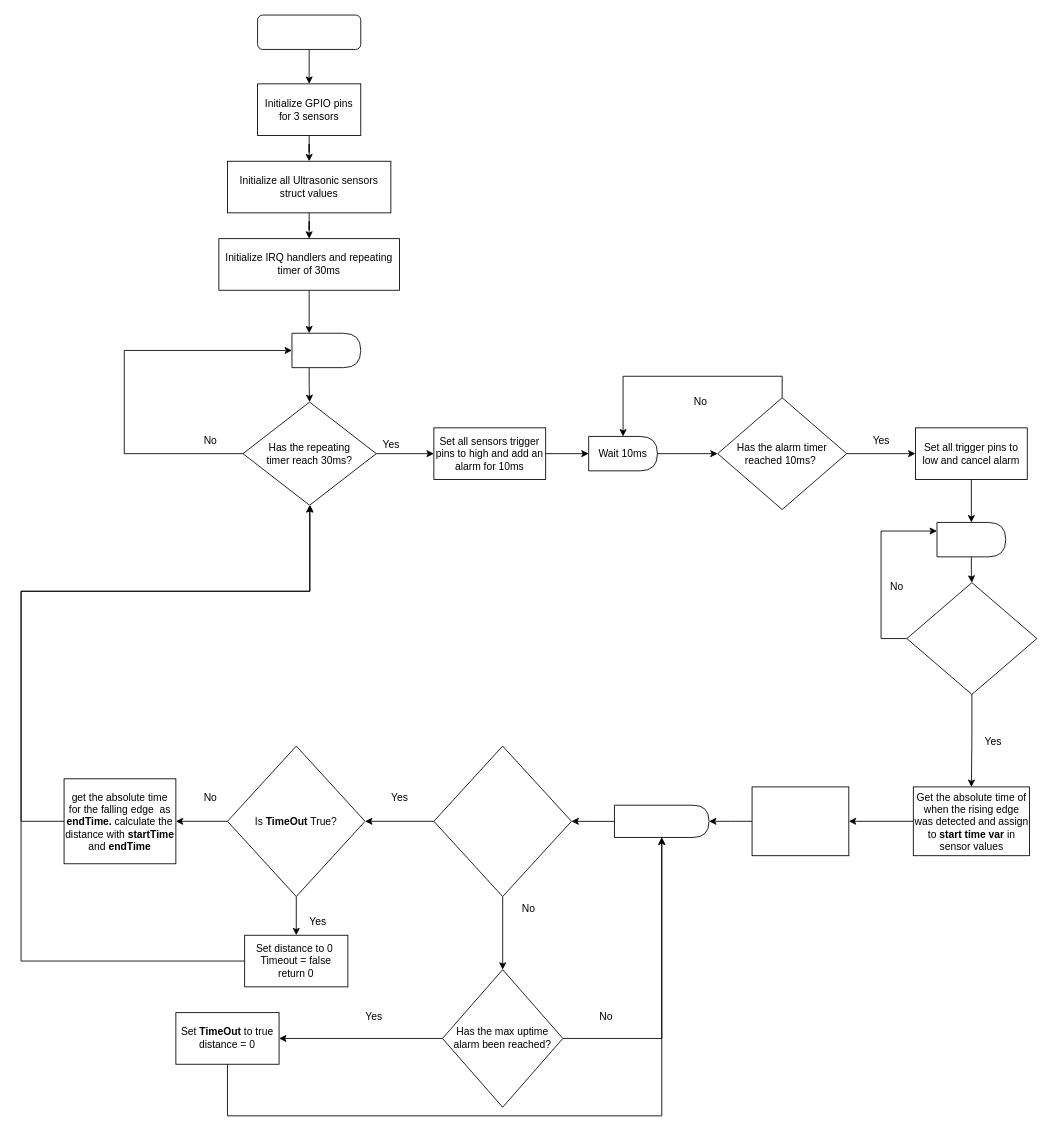
Image size: 1053x1138. Some labels were removed from this diagram. The centre of each missing label's shape, as x and y in pixels:
Add an alarm timer for x seconds for max uptime: pixel 800 821
Has any of the sensors detect a rising edge?: pixel 971 638
Has any sensor detect falling edge?: pixel 502 821
Start: pixel 309 31
Wait 30ms: pixel 326 350
Wait for falling edge: pixel 661 820
wait for rising edge: pixel 971 539
